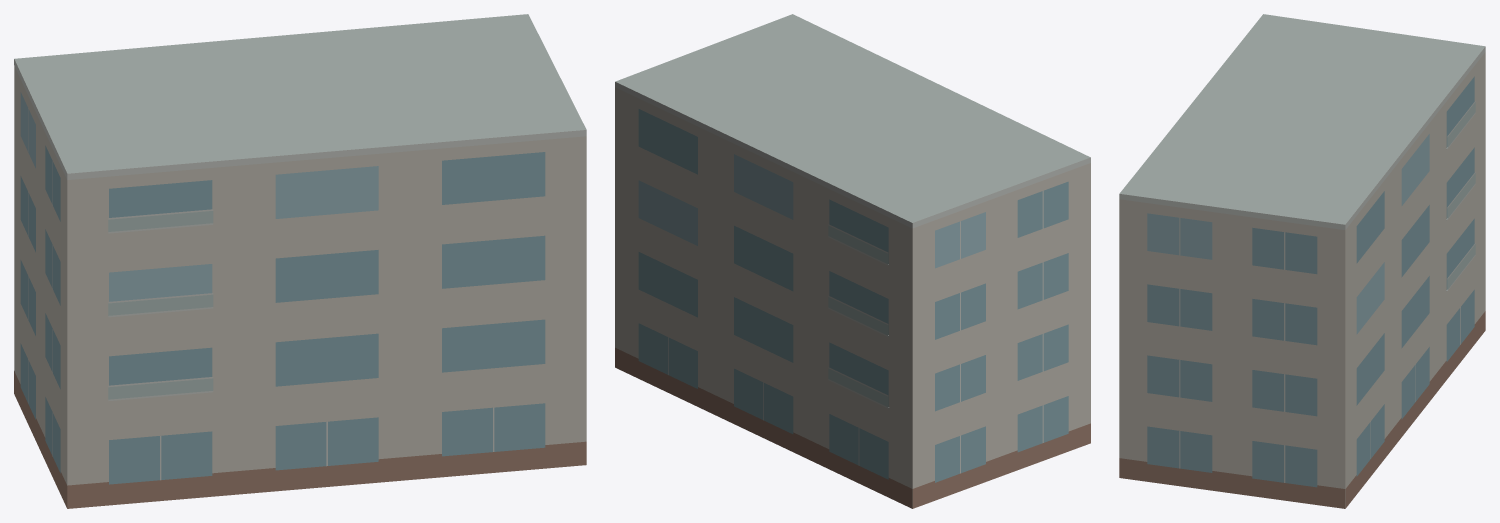
The model's file is survey-upis-32710348.glb.
3 views of the same model, side by side, from view 1: azimuth 30°, elevation 25°; view 2: azimuth 150°, elevation 25°; view 3: azimuth 270°, elevation 25° (orthographic). The views are drawn at different scales.
Visible parts, largest first — view 1: survey-upis-32710348.tmp; view 2: survey-upis-32710348.tmp; view 3: survey-upis-32710348.tmp.
Part boxes in pixels (x1,y1,x2,y2): survey-upis-32710348.tmp: [14, 14, 586, 508]; survey-upis-32710348.tmp: [615, 14, 1090, 508]; survey-upis-32710348.tmp: [1119, 14, 1485, 508].
Size of the model in its own units: 20.29 by 12.75 by 14.91.
